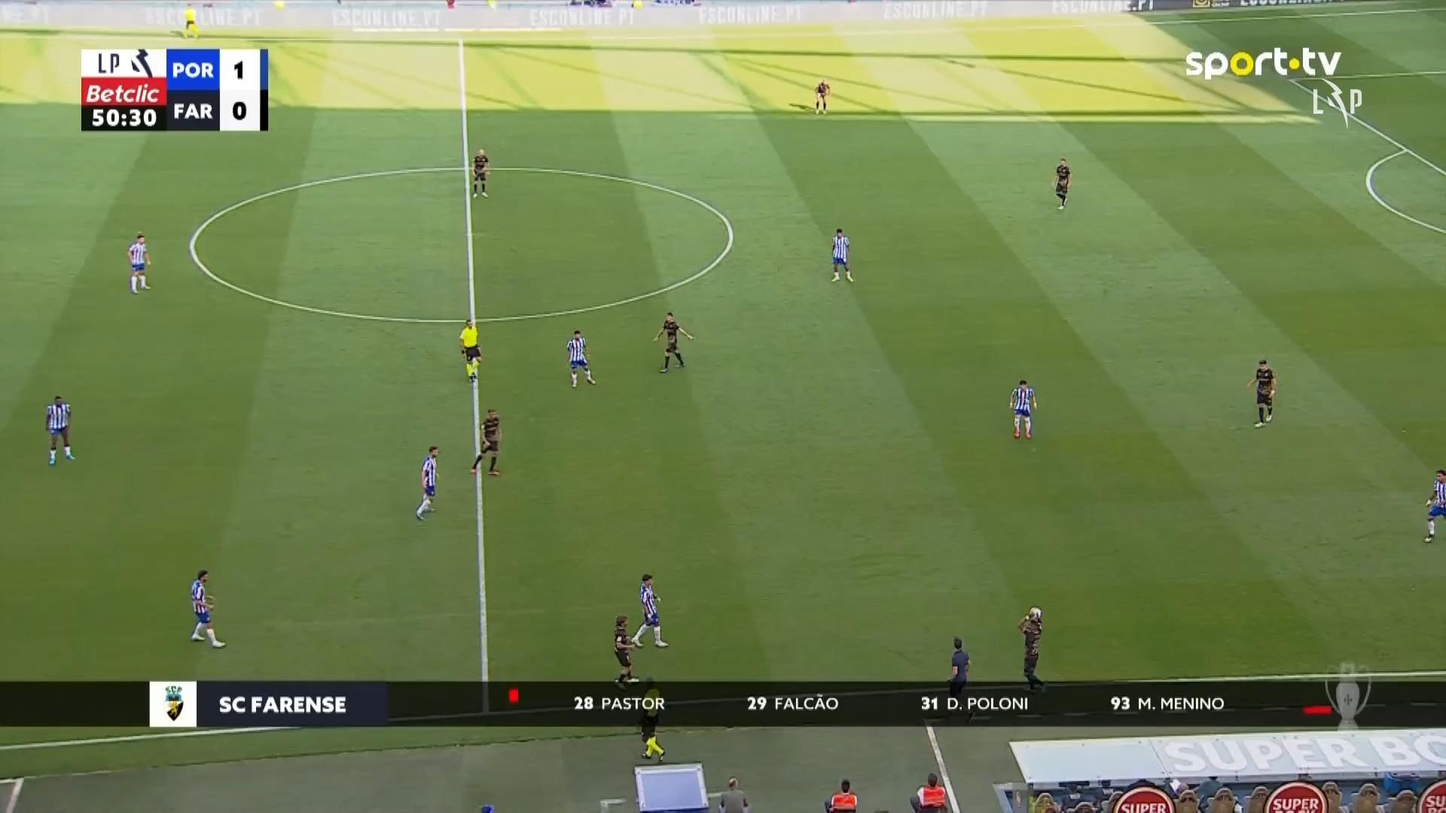player: (189, 568, 226, 648), (630, 573, 669, 647), (651, 311, 694, 373), (1017, 605, 1045, 692), (469, 409, 502, 476), (44, 394, 75, 465), (1246, 358, 1277, 428), (612, 614, 640, 688), (414, 446, 439, 521), (565, 329, 596, 388), (1009, 379, 1037, 439), (1423, 468, 1444, 542), (127, 232, 152, 294), (829, 227, 854, 282), (471, 147, 490, 198), (1053, 157, 1071, 210), (814, 79, 830, 114)
referee: (458, 318, 482, 382), (182, 2, 198, 38)
